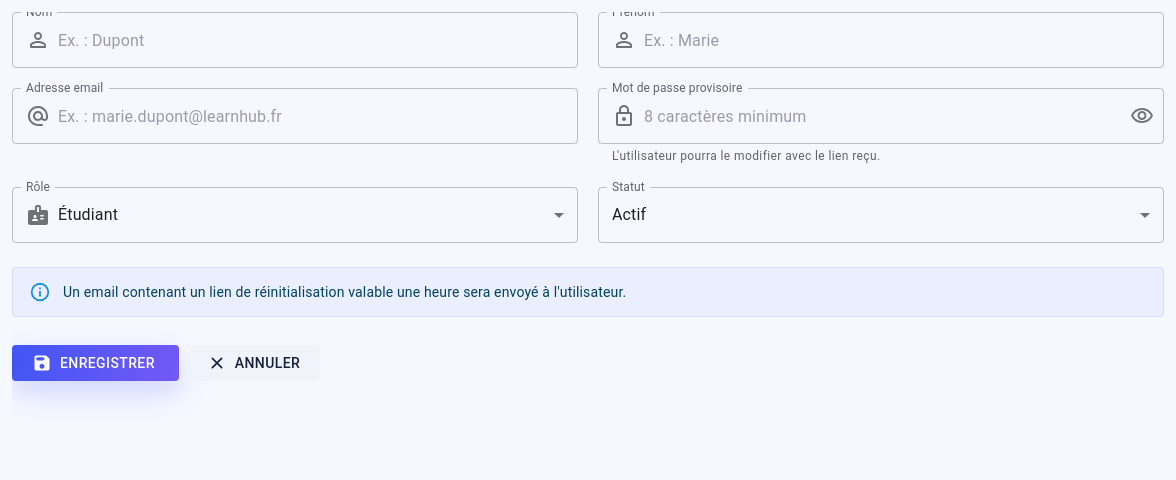
Test case: CreateUserForm › envoie les valeurs métier attendues à l'API
Type "Dupont" into the field labelled "Nom" at (318, 40), box [58, 12, 578, 68]
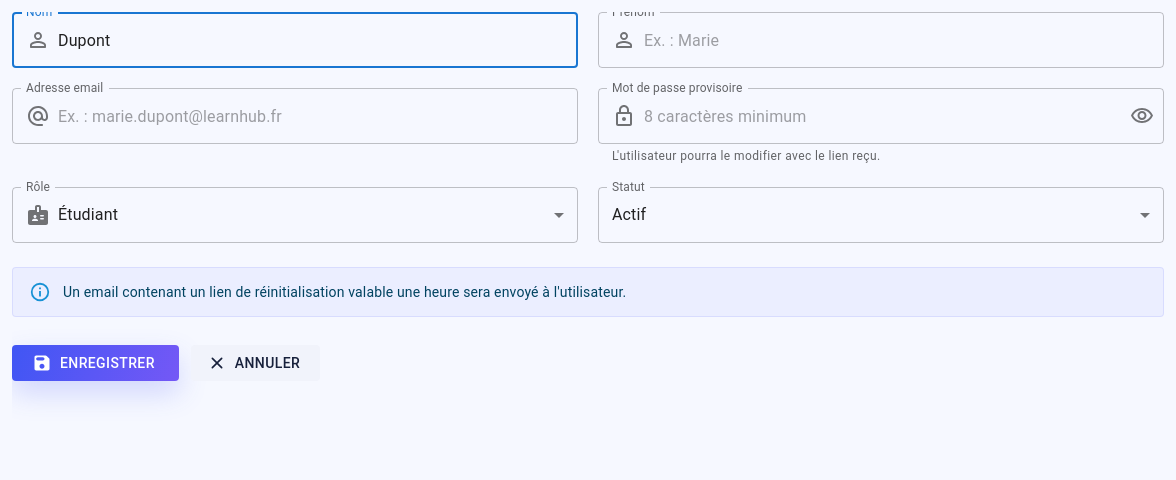
Type "Marie" into the field labelled "Prénom" at (904, 40), box [644, 12, 1164, 68]
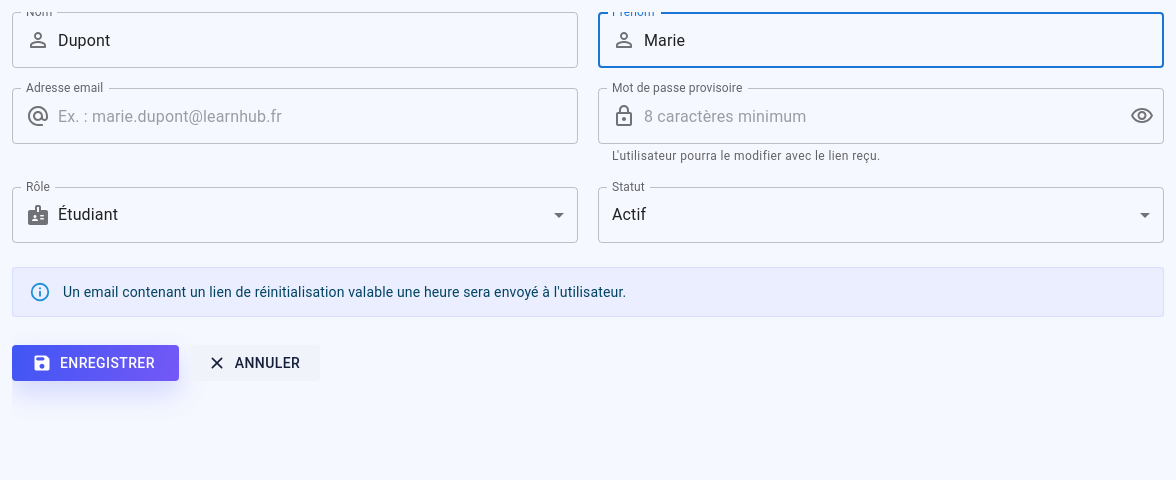
Type "marie.dupont@learnhub.fr" into the field labelled "Adresse email" at (318, 116), box [58, 88, 578, 144]
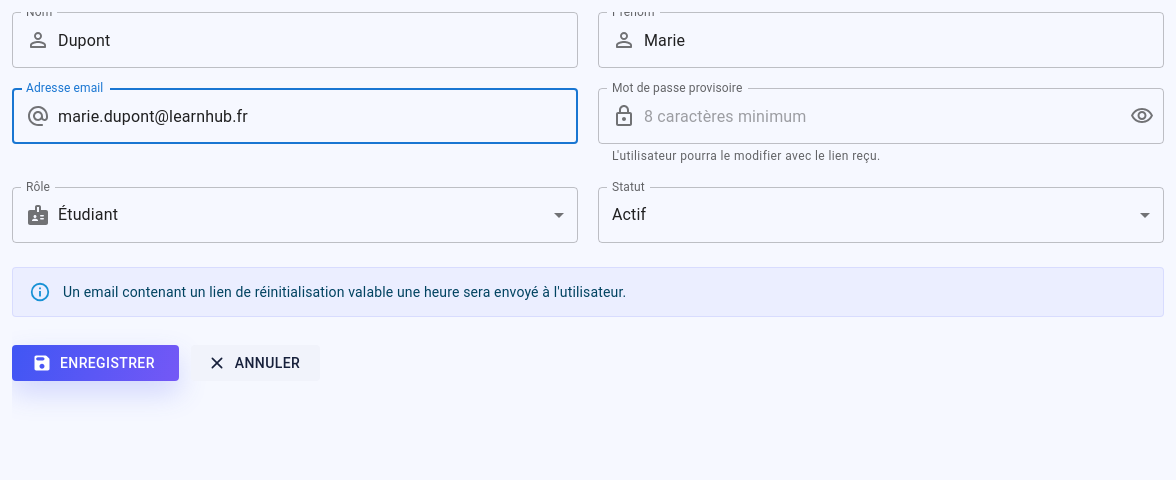
Type "Temporaire123!" into the password field labelled "Mot de passe provisoire" at (879, 116), box [644, 88, 1114, 144]
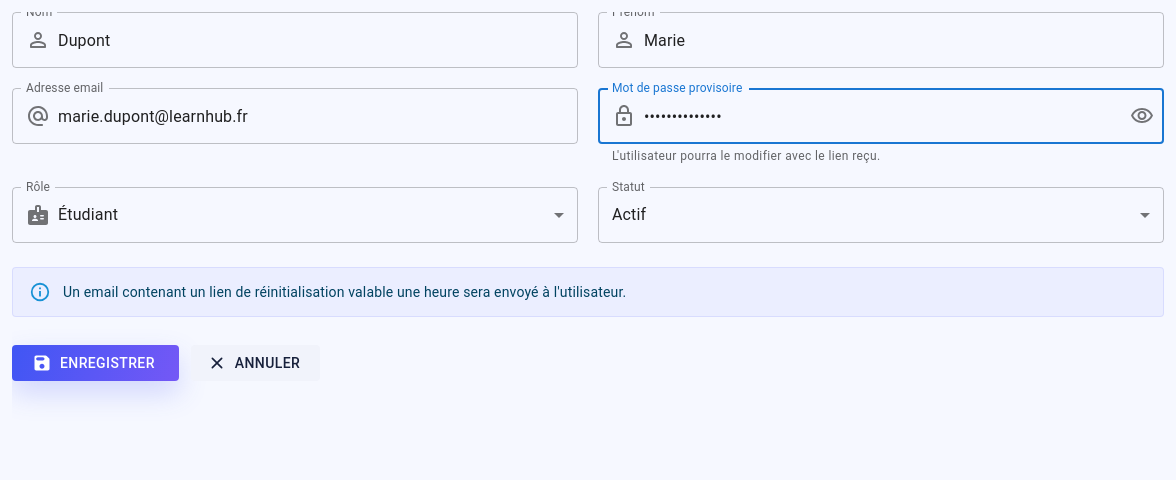
Click the button "Enregistrer" at (95, 363), box [12, 345, 179, 381]
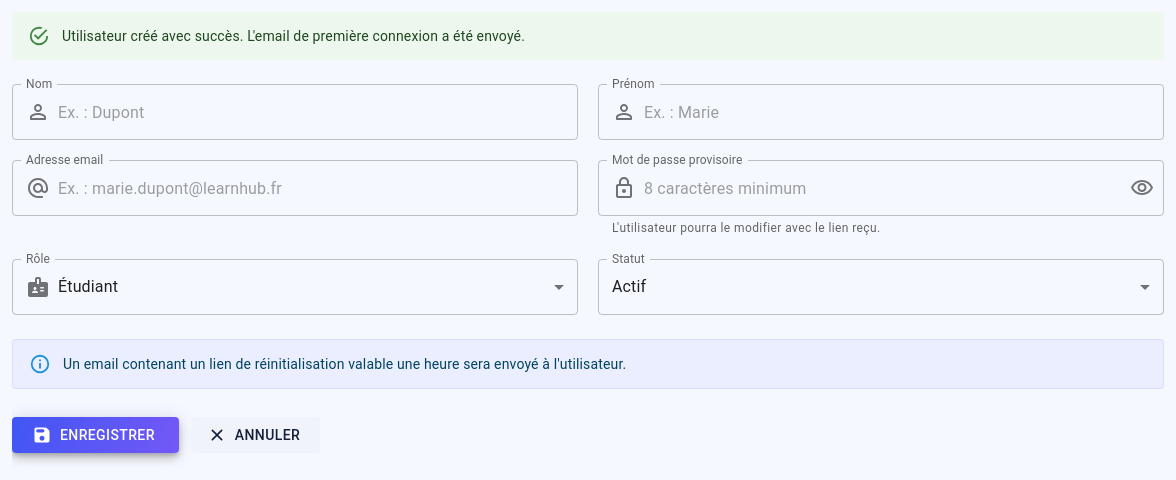
Now the text "Utilisateur créé avec succès" is shown, box [62, 28, 244, 44]
